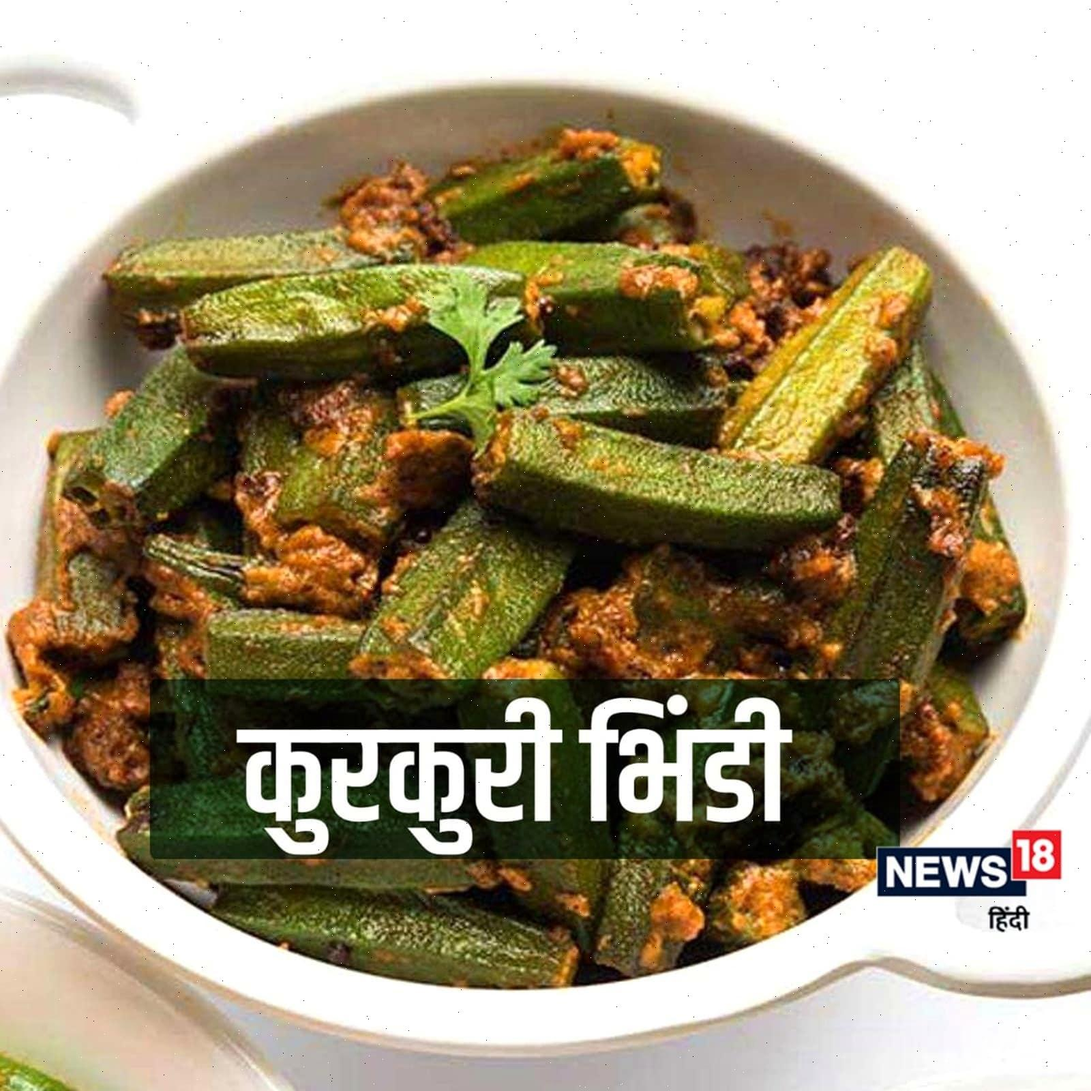bhindi: (45, 172, 1073, 919)
